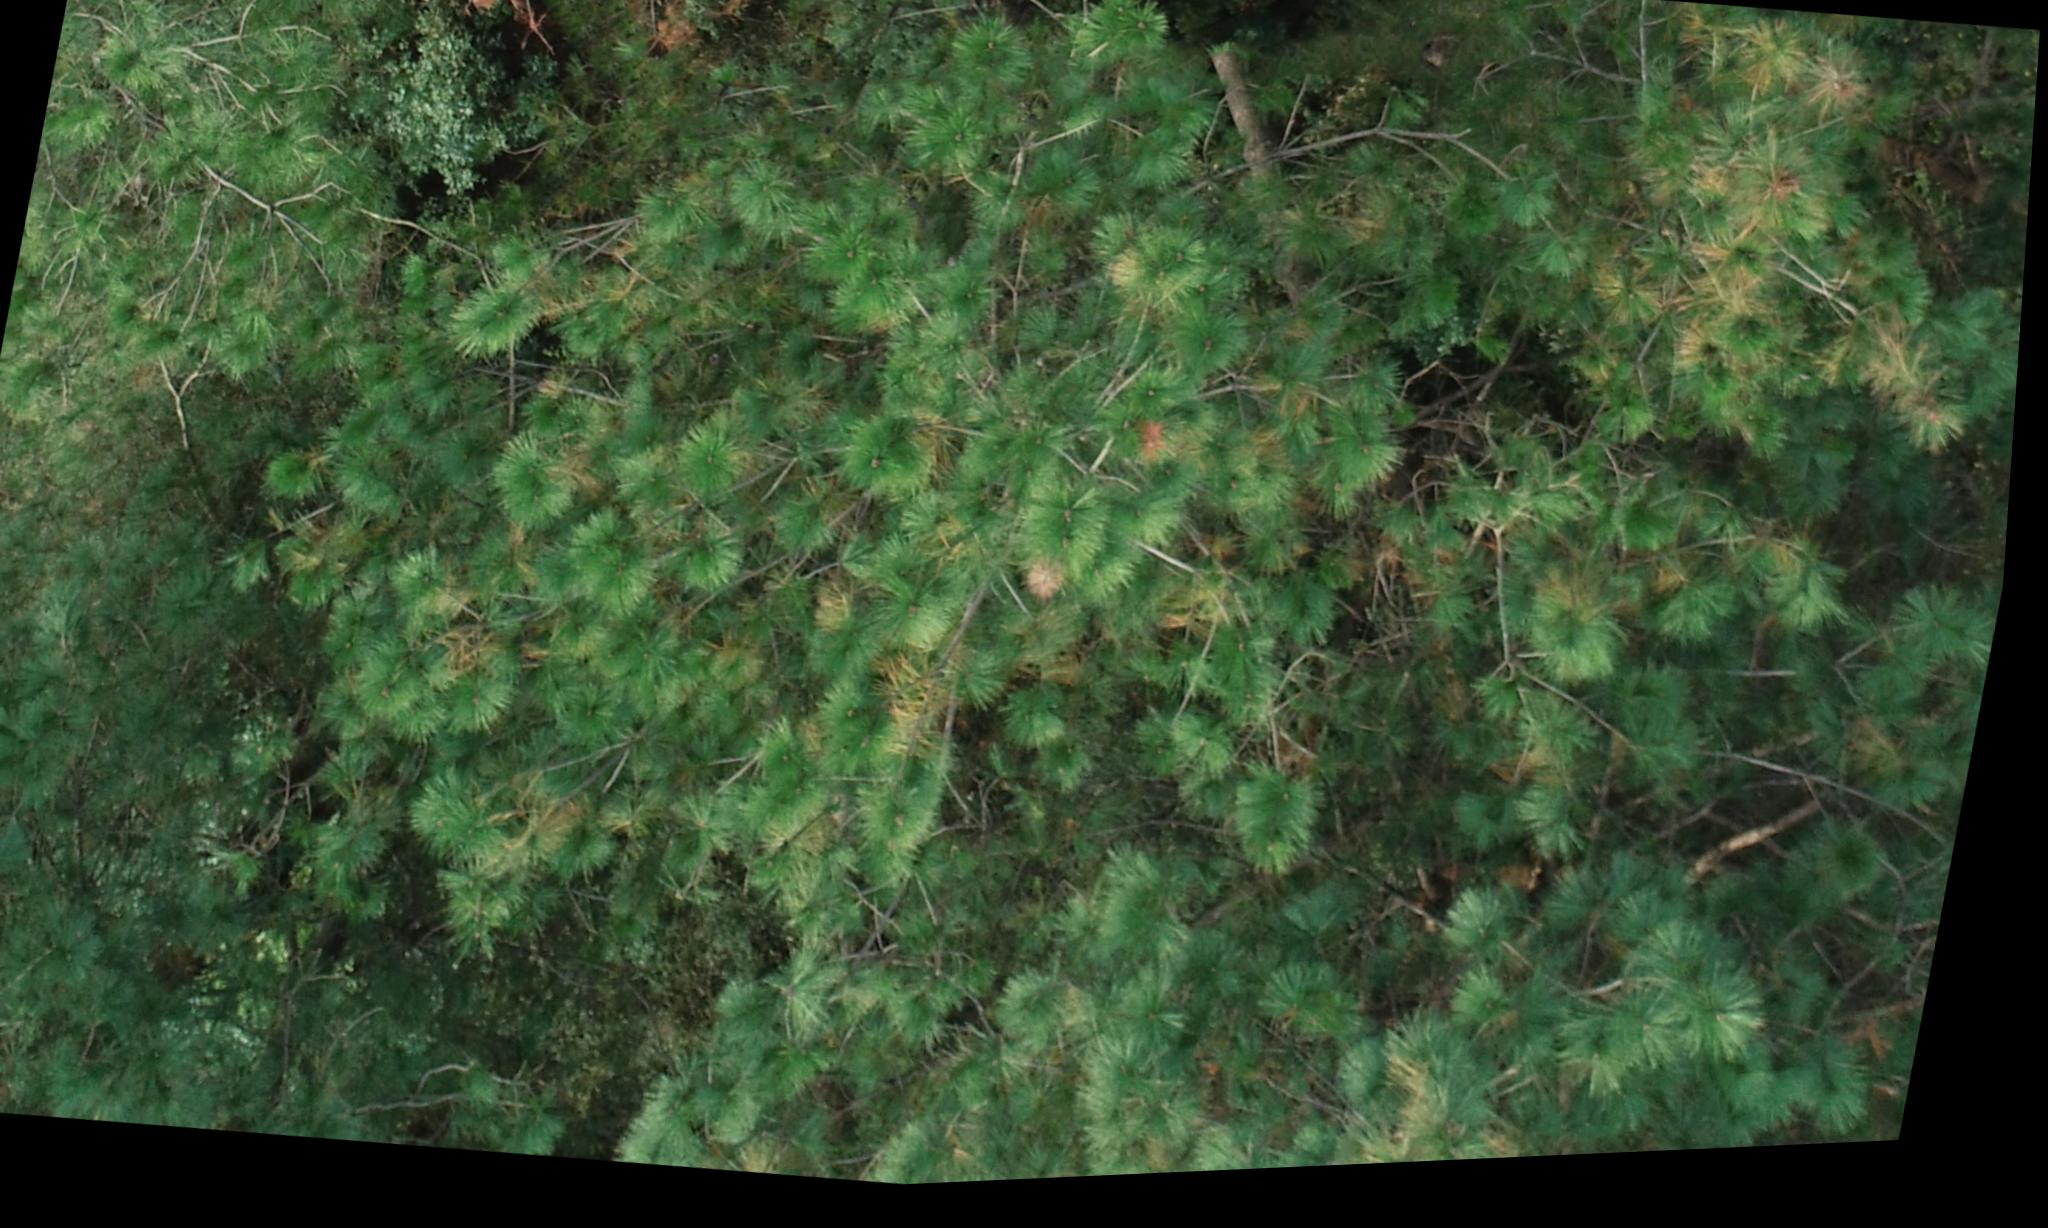light: (500, 0, 1971, 1050)
